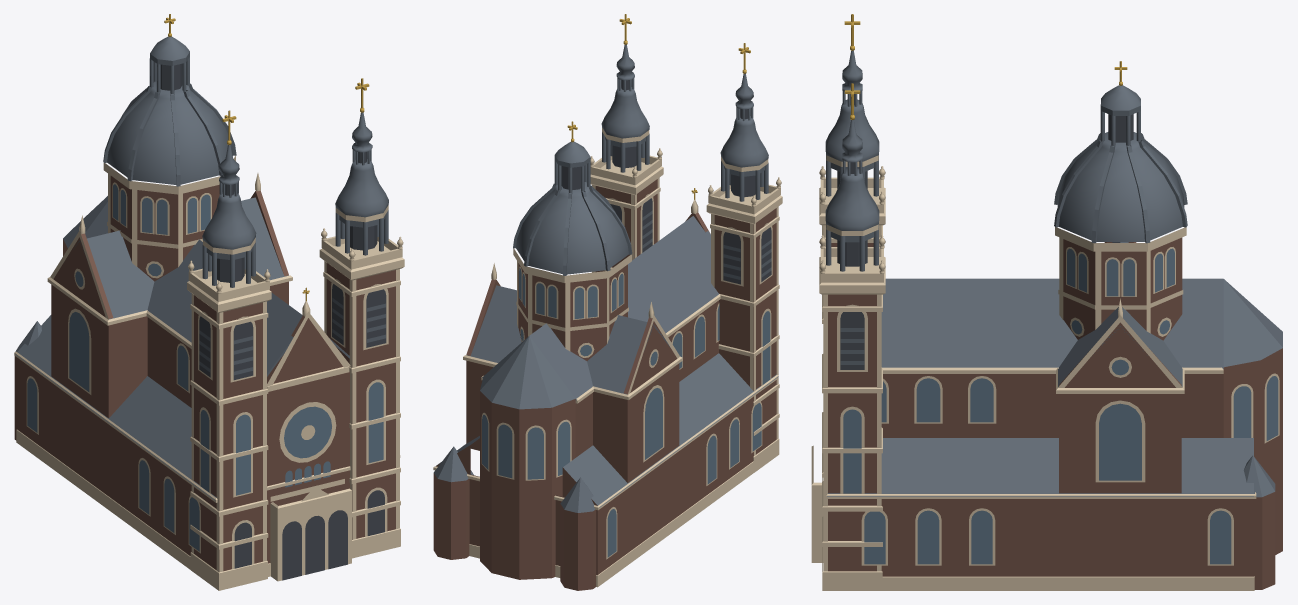
File: amsterdam-sint-nicolaaskerk.glb
The picture shows the model from 3 angles, left to right: view 1: azimuth 30°, elevation 25°; view 2: azimuth 150°, elevation 25°; view 3: azimuth 270°, elevation 25°; orthographic projection. The views are drawn at different scales.
Parts seen in each view (by area): view 1: Basilica of Saint Nicholas; view 2: Basilica of Saint Nicholas; view 3: Basilica of Saint Nicholas.
Part boxes in pixels (x1=…): Basilica of Saint Nicholas: x1=14, y1=14, x2=404, y2=590; Basilica of Saint Nicholas: x1=433, y1=14, x2=782, y2=590; Basilica of Saint Nicholas: x1=811, y1=14, x2=1282, y2=590.
Bounding box in the file's own units: 23.7 × 56 × 48.53.
